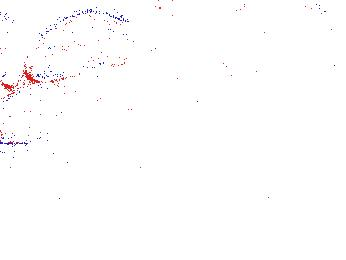moon jellyfish: (220, 1, 337, 99), (25, 12, 154, 86), (36, 79, 131, 151), (152, 2, 207, 83), (1, 81, 63, 146), (1, 13, 26, 90)
